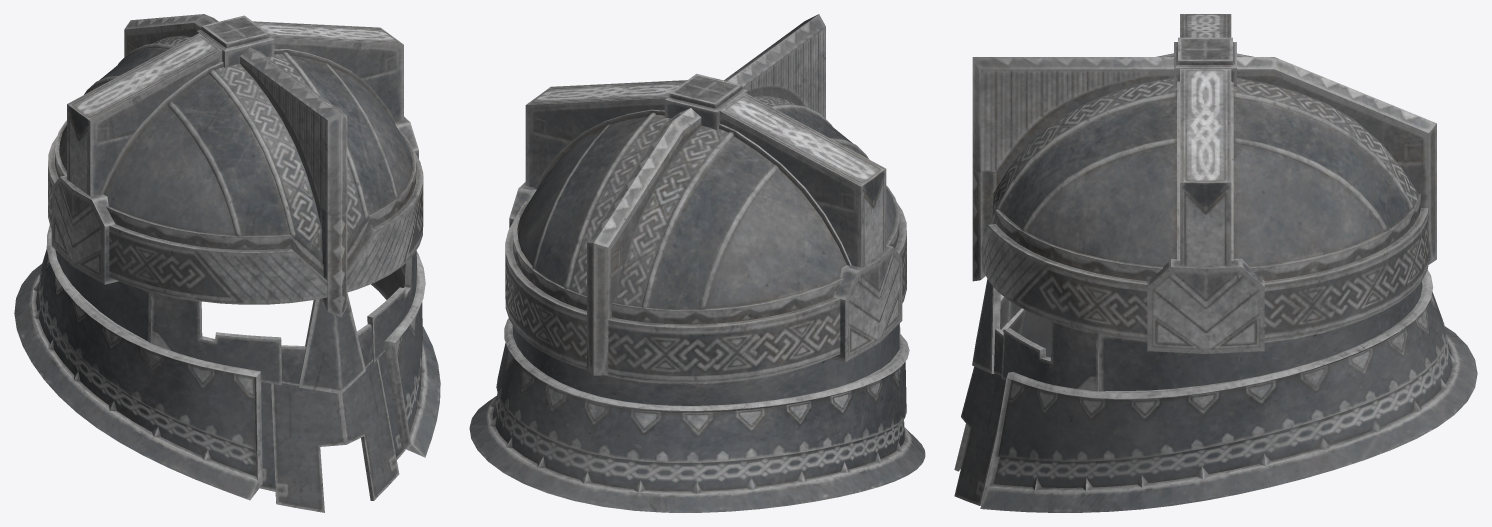
The model's file is sk_dwarf_erebor_helmet_plate_elite_c.fbx.
3 renders of one model, left to right at view 1: azimuth 30°, elevation 25°; view 2: azimuth 150°, elevation 25°; view 3: azimuth 270°, elevation 25°, orthographic. The views are drawn at different scales.
Parts seen in each view (by area): view 1: sk_dwarf_erebor_helmet_plate_elite_c; view 2: sk_dwarf_erebor_helmet_plate_elite_c; view 3: sk_dwarf_erebor_helmet_plate_elite_c.
Part boxes in pixels (x1,y1,x2,y2): sk_dwarf_erebor_helmet_plate_elite_c: (14,14,440,512); sk_dwarf_erebor_helmet_plate_elite_c: (469,14,925,512); sk_dwarf_erebor_helmet_plate_elite_c: (954,14,1477,512).
Bounding box in the file's own units: 0.2865 × 0.3337 × 0.3059.
Materials: 1 (1 with a texture image).
